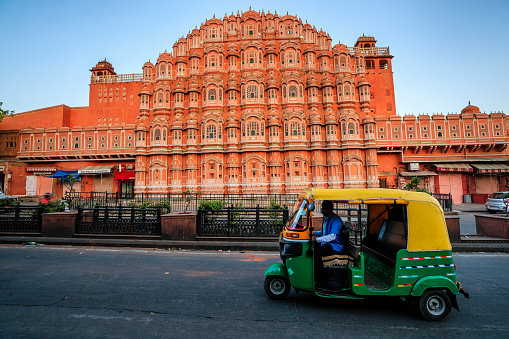threewheel: (263, 187, 460, 321)
